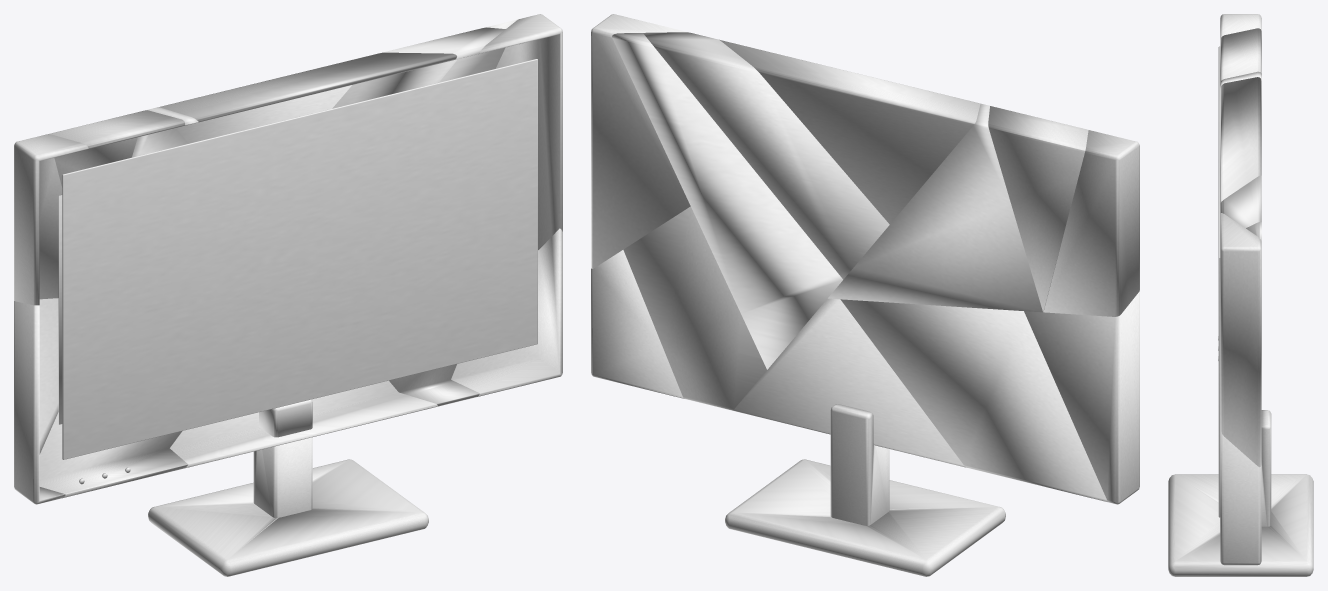
Rendered from fracture-solids.glb.
3 views of the same model, side by side, from view 1: azimuth 30°, elevation 25°; view 2: azimuth 150°, elevation 25°; view 3: azimuth 270°, elevation 25° (orthographic). The views are drawn at different scales.
Parts seen in each view (by area): view 1: fragment-012, fragment-019, fragment-001, fragment-003, fragment-011, fragment-000, fragment-002, fragment-008, fragment-004, fragment-017, fragment-010, fragment-006 (+5 smaller); view 2: fragment-004, fragment-007, fragment-005, fragment-006, fragment-001, fragment-019, fragment-009, fragment-000, fragment-002, fragment-003, fragment-011, fragment-010 (+2 smaller); view 3: fragment-019, fragment-002, fragment-008, fragment-001, fragment-010, fragment-006, fragment-012, fragment-017, fragment-011, fragment-005.
Part boxes in pixels (left/top/right/bottom): fragment-012: left=62, top=59, right=537, bottom=459; fragment-019: left=148, top=459, right=428, bottom=576; fragment-001: left=159, top=52, right=456, bottom=143; fragment-003: left=14, top=298, right=65, bottom=504; fragment-011: left=14, top=134, right=88, bottom=305; fragment-000: left=170, top=380, right=437, bottom=468; fragment-002: left=479, top=14, right=562, bottom=249; fragment-008: left=451, top=228, right=562, bottom=396; fragment-004: left=39, top=412, right=188, bottom=498; fragment-017: left=253, top=437, right=312, bottom=517; fragment-010: left=49, top=110, right=184, bottom=187; fragment-006: left=332, top=27, right=505, bottom=108; fragment-004: left=840, top=299, right=1107, bottom=501; fragment-007: left=612, top=33, right=842, bottom=369; fragment-005: left=828, top=103, right=1042, bottom=312; fragment-006: left=643, top=32, right=889, bottom=279; fragment-001: left=719, top=39, right=980, bottom=224; fragment-019: left=725, top=459, right=1005, bottom=576; fragment-009: left=623, top=206, right=766, bottom=410; fragment-000: left=733, top=298, right=966, bottom=467; fragment-002: left=591, top=14, right=690, bottom=268; fragment-003: left=1024, top=290, right=1139, bottom=504; fragment-011: left=1043, top=130, right=1139, bottom=316; fragment-010: left=988, top=106, right=1088, bottom=312; fragment-019: left=1168, top=474, right=1313, bottom=576; fragment-002: left=1220, top=213, right=1261, bottom=467; fragment-008: left=1220, top=429, right=1261, bottom=565; fragment-001: left=1220, top=77, right=1261, bottom=202; fragment-010: left=1220, top=28, right=1261, bottom=82; fragment-006: left=1220, top=175, right=1261, bottom=228; fragment-012: left=1218, top=46, right=1220, bottom=517; fragment-017: left=1261, top=410, right=1271, bottom=526; fragment-011: left=1220, top=14, right=1261, bottom=39; fragment-005: left=1220, top=71, right=1261, bottom=87.
Bounding box in the file's own units: 0.46 × 0.367 × 0.12.
Materials: 1 (1 with a texture image).
